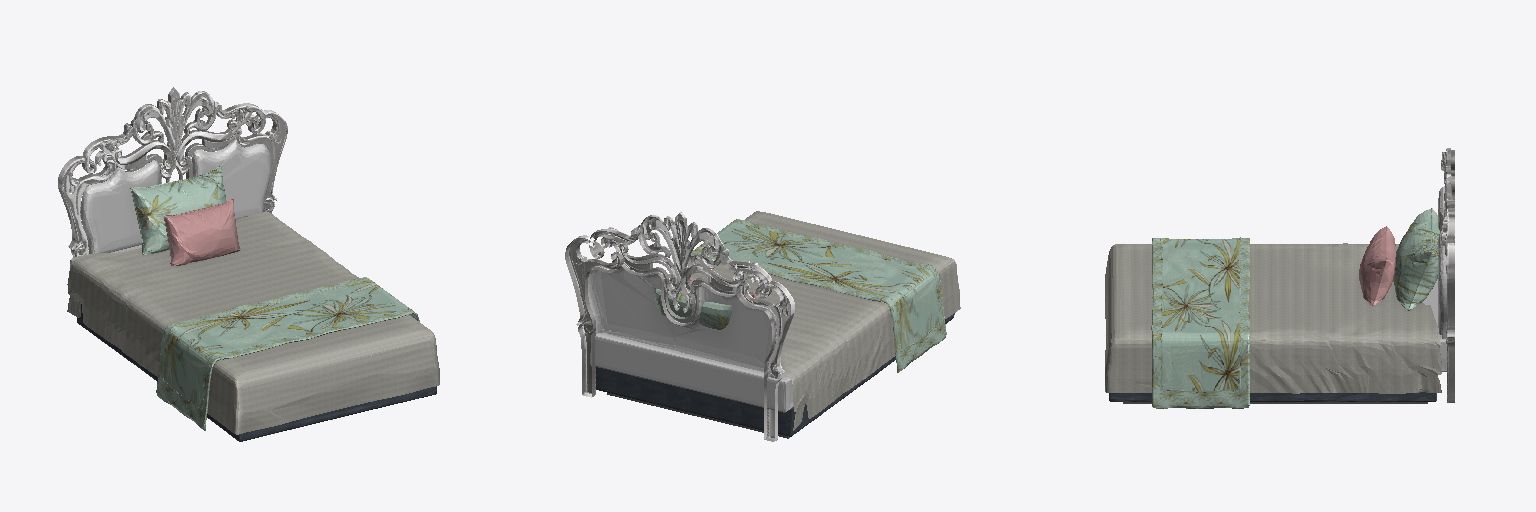
The picture shows the model from 3 angles: view 1: azimuth 30°, elevation 25°; view 2: azimuth 150°, elevation 25°; view 3: azimuth 270°, elevation 25°; orthographic projection.
Visible parts, largest first — view 1: solid_001, solid_004, solid_003, solid_002, solid_008, solid_006; view 2: solid_001, solid_004, solid_003, solid_002, solid_005, solid_006; view 3: solid_001, solid_004, solid_003, solid_008, solid_006, solid_002.
Boxes of the visible parts, x1=… form: solid_001: x1=67, y1=211, x2=439, y2=434; solid_004: x1=130, y1=166, x2=419, y2=430; solid_003: x1=58, y1=87, x2=287, y2=257; solid_002: x1=81, y1=140, x2=270, y2=253; solid_008: x1=164, y1=198, x2=240, y2=265; solid_006: x1=77, y1=304, x2=436, y2=441; solid_001: x1=601, y1=211, x2=960, y2=430; solid_004: x1=654, y1=219, x2=946, y2=372; solid_003: x1=565, y1=211, x2=794, y2=441; solid_002: x1=588, y1=262, x2=771, y2=371; solid_005: x1=590, y1=333, x2=793, y2=412; solid_006: x1=596, y1=313, x2=954, y2=436; solid_001: x1=1105, y1=243, x2=1441, y2=393; solid_004: x1=1151, y1=208, x2=1439, y2=408; solid_003: x1=1441, y1=148, x2=1454, y2=402; solid_008: x1=1359, y1=226, x2=1395, y2=305; solid_006: x1=1109, y1=392, x2=1436, y2=401; solid_002: x1=1438, y1=186, x2=1446, y2=338.
Size of the model in its own units: 1.7 by 1.48 by 2.23.
Materials: 1 (1 with a texture image).